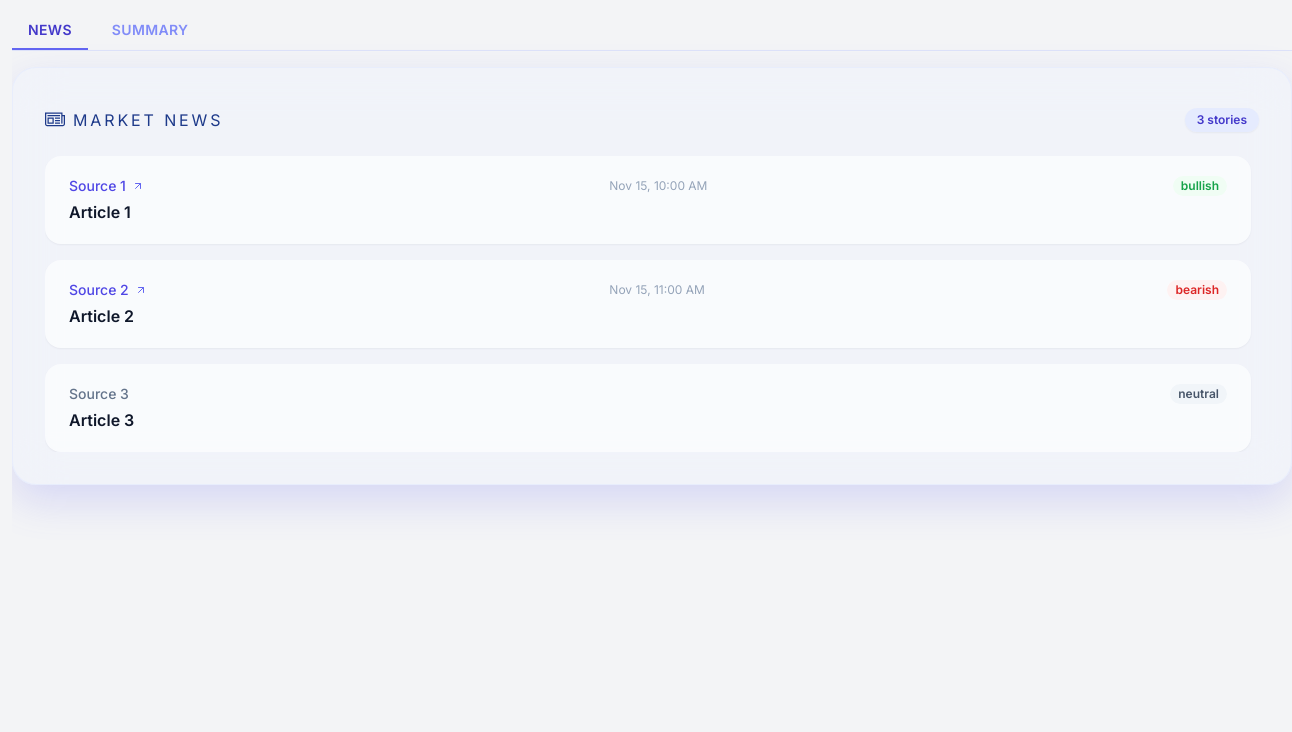
NewsCard › displays summary
The width and height of the screenshot is (1292, 732).
Note: Switch to summary tab
Click the button "Summary". click: [150, 31]
box: [96,12,204,50]
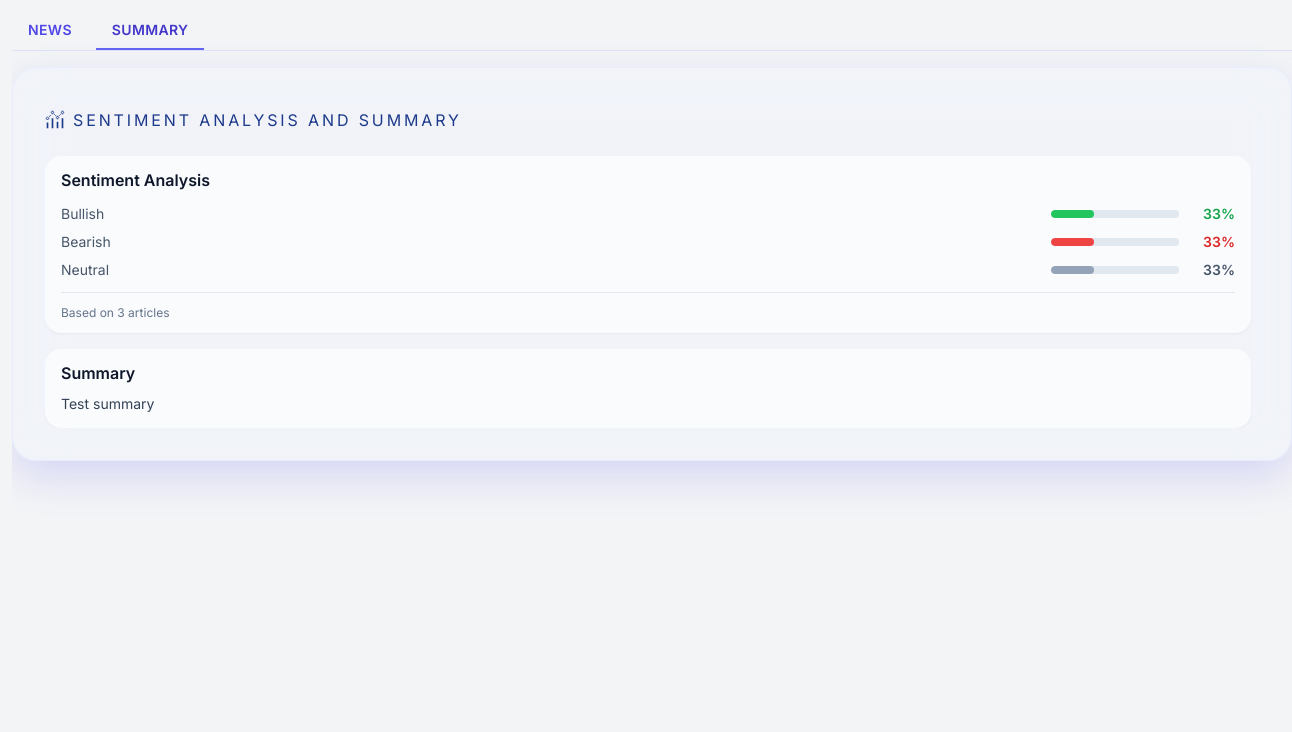
Check: the text "Test summary" is shown, box [61,395,154,412]
